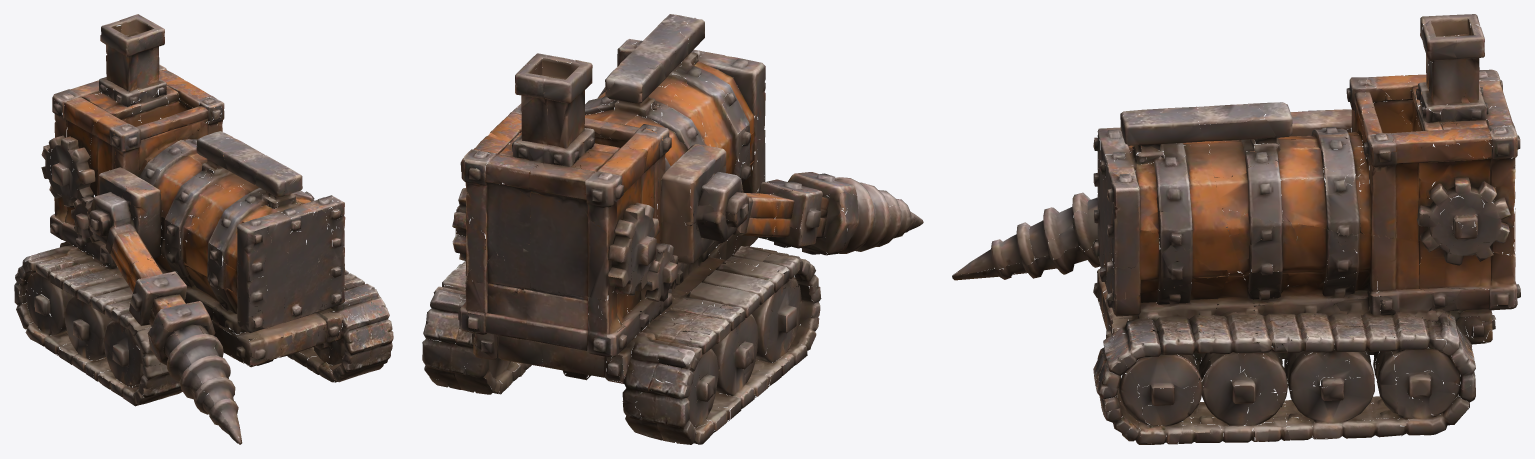
Rendered from driller.glb.
The picture shows the model from 3 angles, left to right: view 1: azimuth 30°, elevation 25°; view 2: azimuth 150°, elevation 25°; view 3: azimuth 270°, elevation 25°; orthographic projection. The views are drawn at different scales.
Visible parts, largest first — view 1: tripo_node_5daa4a38-78df-495c-8486-949e47cdc76d; view 2: tripo_node_5daa4a38-78df-495c-8486-949e47cdc76d; view 3: tripo_node_5daa4a38-78df-495c-8486-949e47cdc76d.
Part boxes in pixels (x1,y1,x2,y2): tripo_node_5daa4a38-78df-495c-8486-949e47cdc76d: (14,14,393,444); tripo_node_5daa4a38-78df-495c-8486-949e47cdc76d: (422,14,923,444); tripo_node_5daa4a38-78df-495c-8486-949e47cdc76d: (952,14,1520,444).
Size of the model in its own units: 0.5747 by 0.6655 by 0.9802.
Materials: 1 (1 with a texture image).
